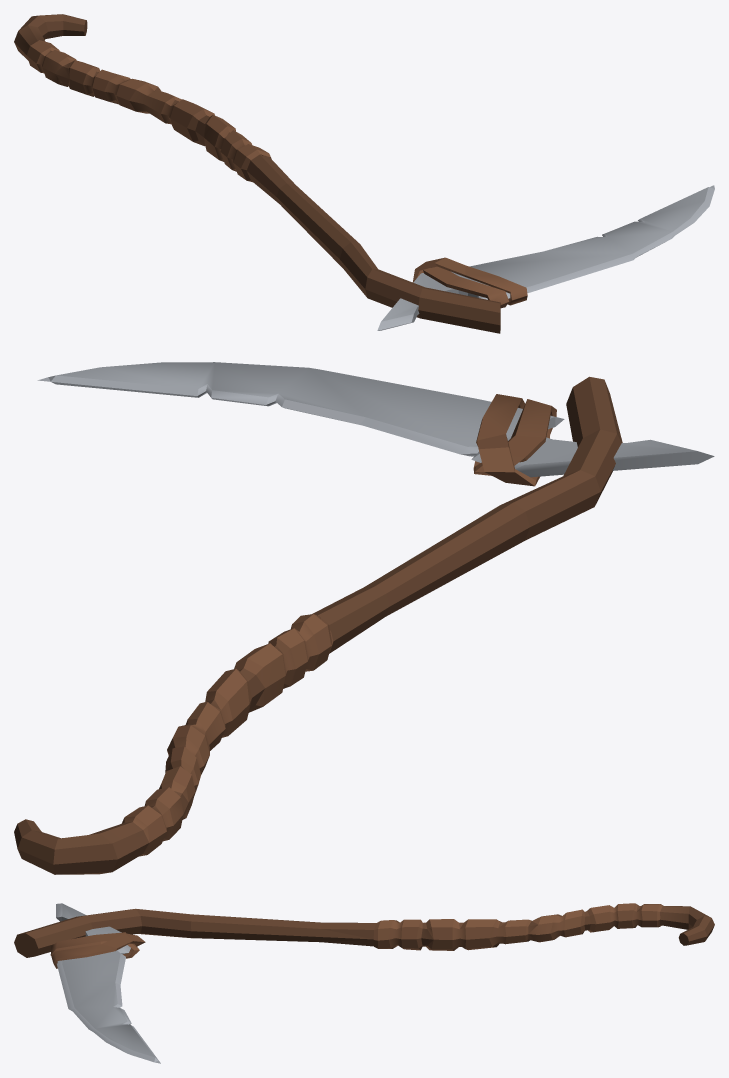
The model's file is scythe.glb.
3 renders of one model, top to bottom at view 1: azimuth 30°, elevation 25°; view 2: azimuth 150°, elevation 25°; view 3: azimuth 270°, elevation 25°, orthographic. The views are drawn at different scales.
Visible parts, largest first — view 1: Scythe_Cylinder.005; view 2: Scythe_Cylinder.005; view 3: Scythe_Cylinder.005.
Part boxes in pixels (x1=…): Scythe_Cylinder.005: x1=14, y1=14, x2=714, y2=333; Scythe_Cylinder.005: x1=14, y1=362, x2=714, y2=874; Scythe_Cylinder.005: x1=14, y1=903, x2=714, y2=1063.
Bounding box in the file's own units: 0.9086 × 0.0831 × 1.67.
